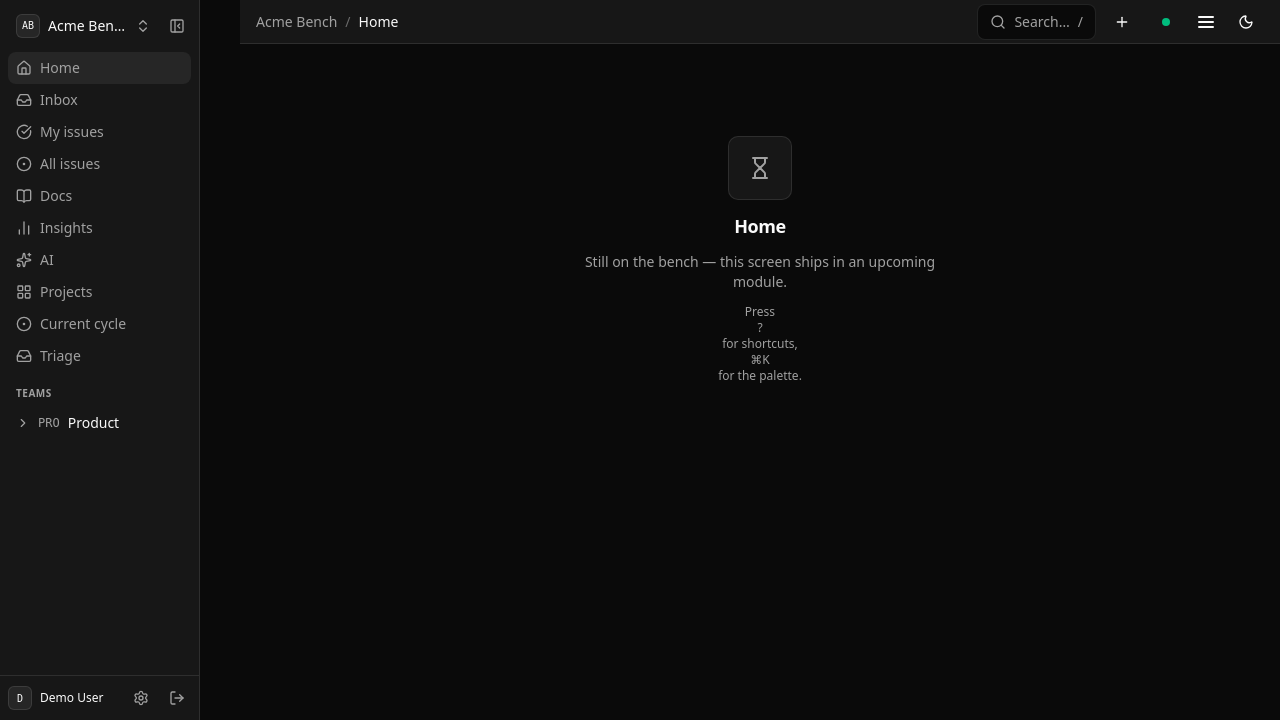
Test: board drag → PATCH payload › PATCHes stateId when a card is dropped on another column
This screenshot has width=1280, height=720.
Click the link "All issues": (58, 164) [16, 154, 100, 173]
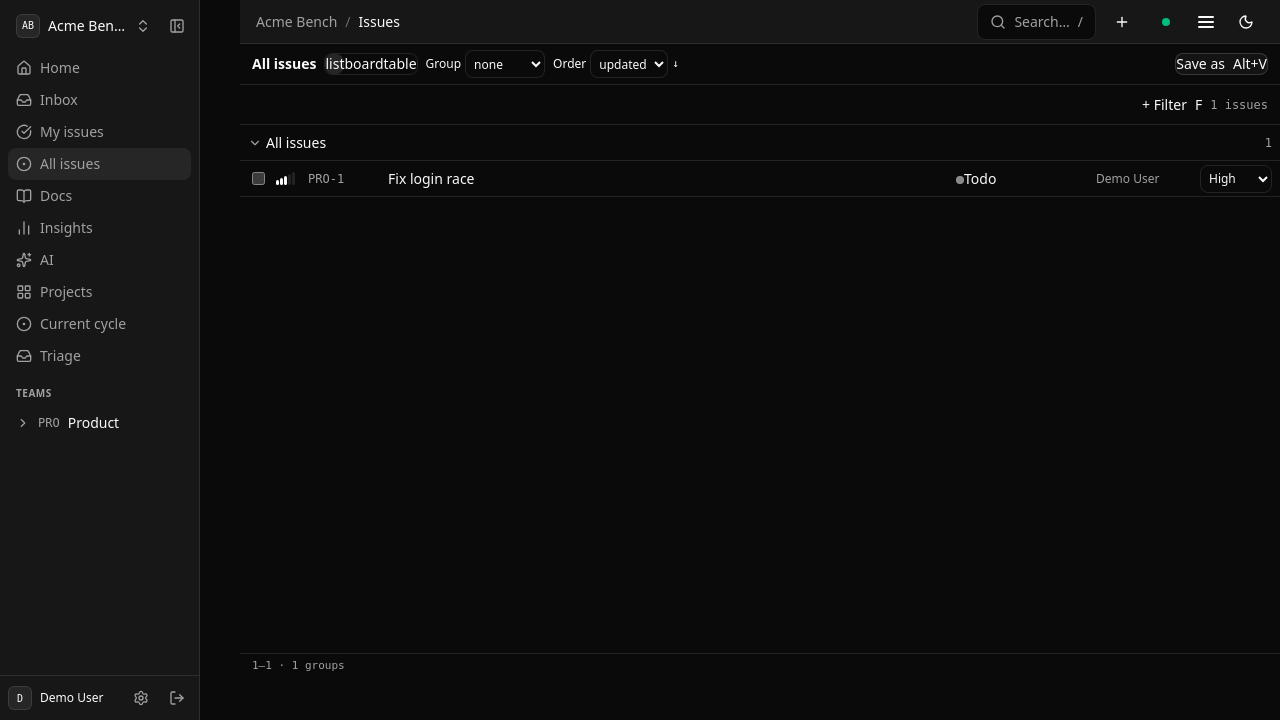
Expected: the heading "All issues" is shown, [252, 54, 316, 74]
Click the radio button labelled "board": (364, 64) [344, 54, 384, 74]
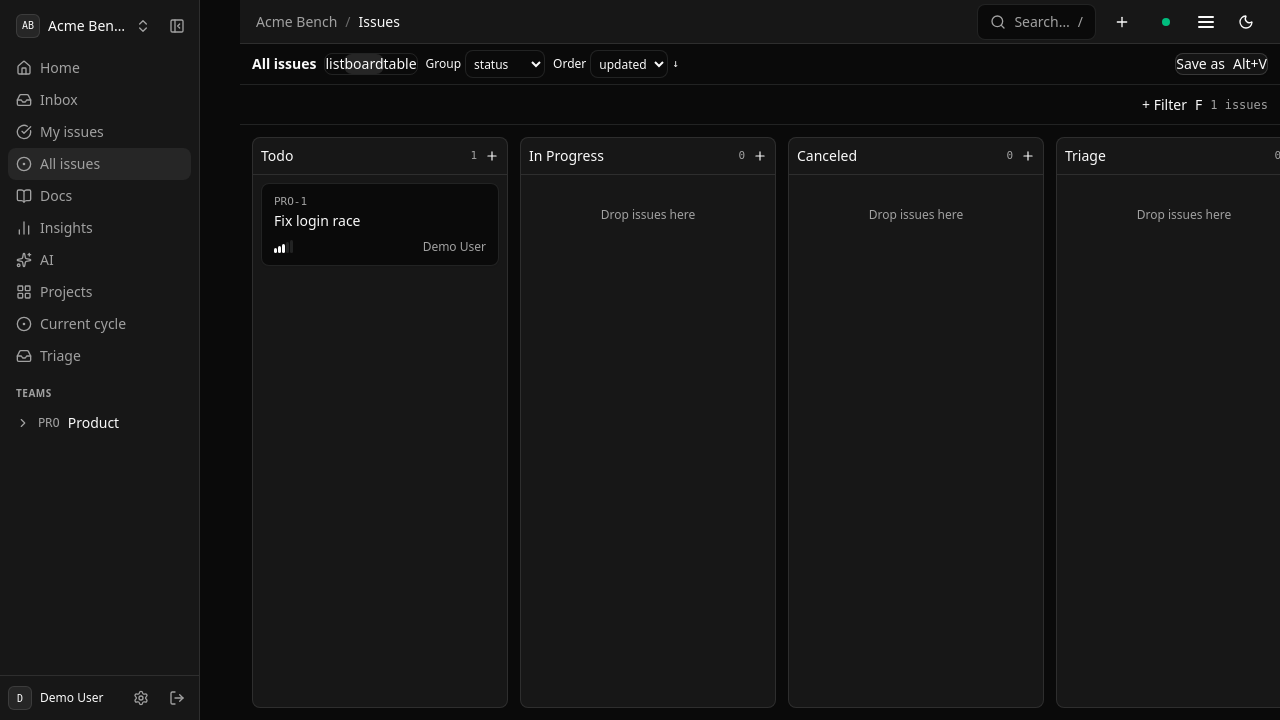
Expected: the text "PRO-1" is shown, [274, 195, 307, 208]
